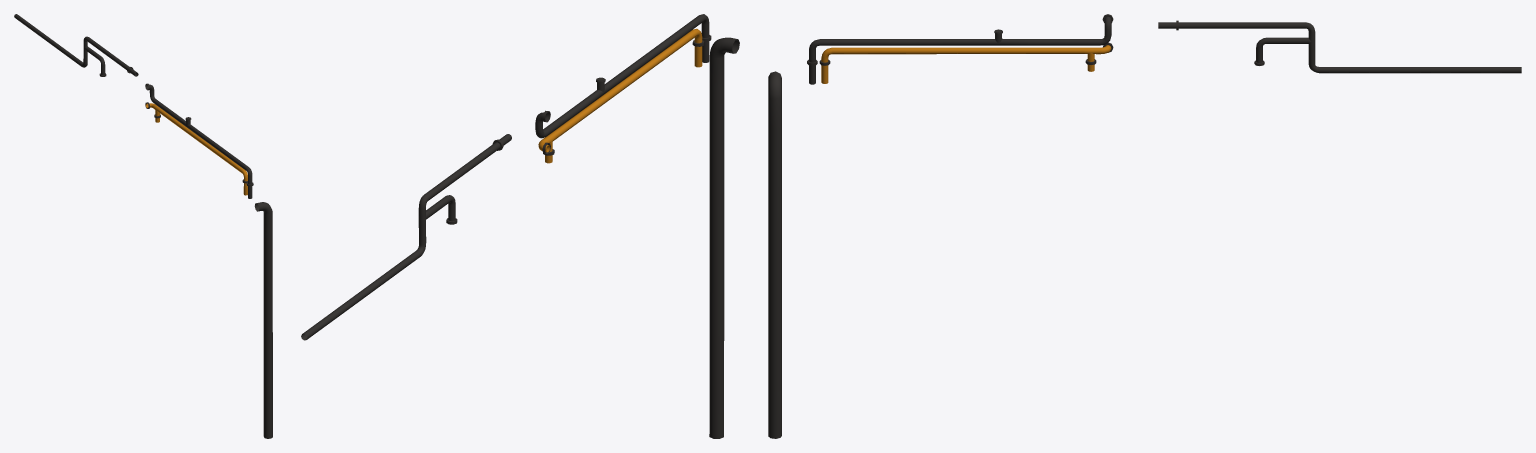
File: SM_H_Building_Tide_WaterControl_02d_ATLAS.fbx
The picture shows the model from 3 angles, left to right: view 1: azimuth 30°, elevation 25°; view 2: azimuth 150°, elevation 25°; view 3: azimuth 270°, elevation 25°; orthographic projection. The views are drawn at different scales.
Parts seen in each view (by area): view 1: SM_H_Building_Tide_WaterControl_02d_ATLAS_LOD0; view 2: SM_H_Building_Tide_WaterControl_02d_ATLAS_LOD0; view 3: SM_H_Building_Tide_WaterControl_02d_ATLAS_LOD0.
Boxes of the visible parts, bbox=[...] form: SM_H_Building_Tide_WaterControl_02d_ATLAS_LOD0: bbox=[14, 14, 272, 438]; SM_H_Building_Tide_WaterControl_02d_ATLAS_LOD0: bbox=[301, 14, 739, 438]; SM_H_Building_Tide_WaterControl_02d_ATLAS_LOD0: bbox=[768, 14, 1521, 438].
Bounding box in the file's own units: 96.99 × 2743 × 1663.
